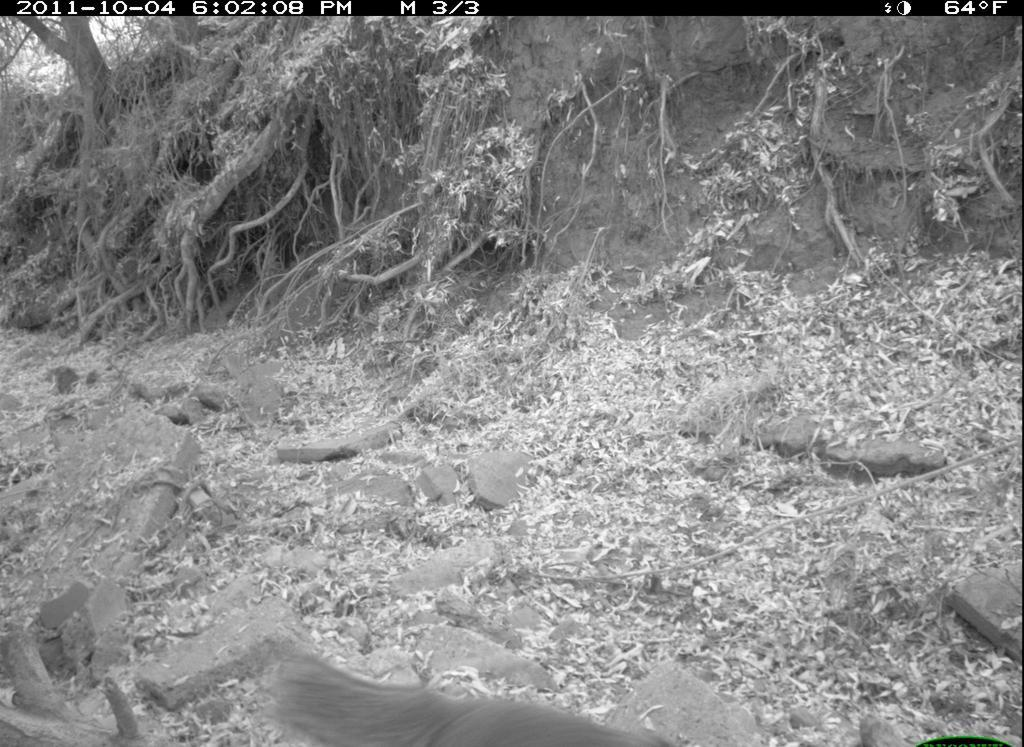squirrel: (260, 635, 680, 747)
